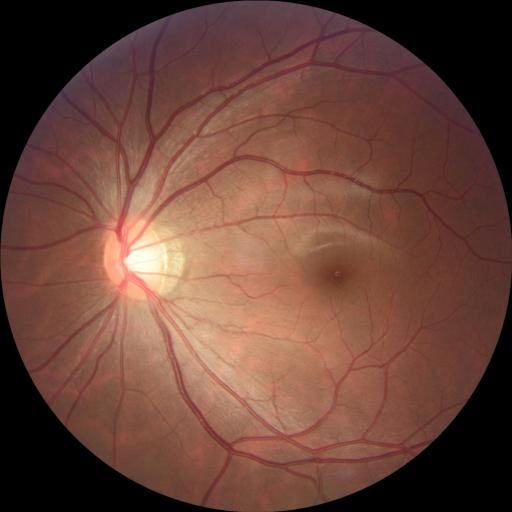Optic Cup: (125, 245, 161, 275)
Optic Disc: (103, 217, 169, 300)
